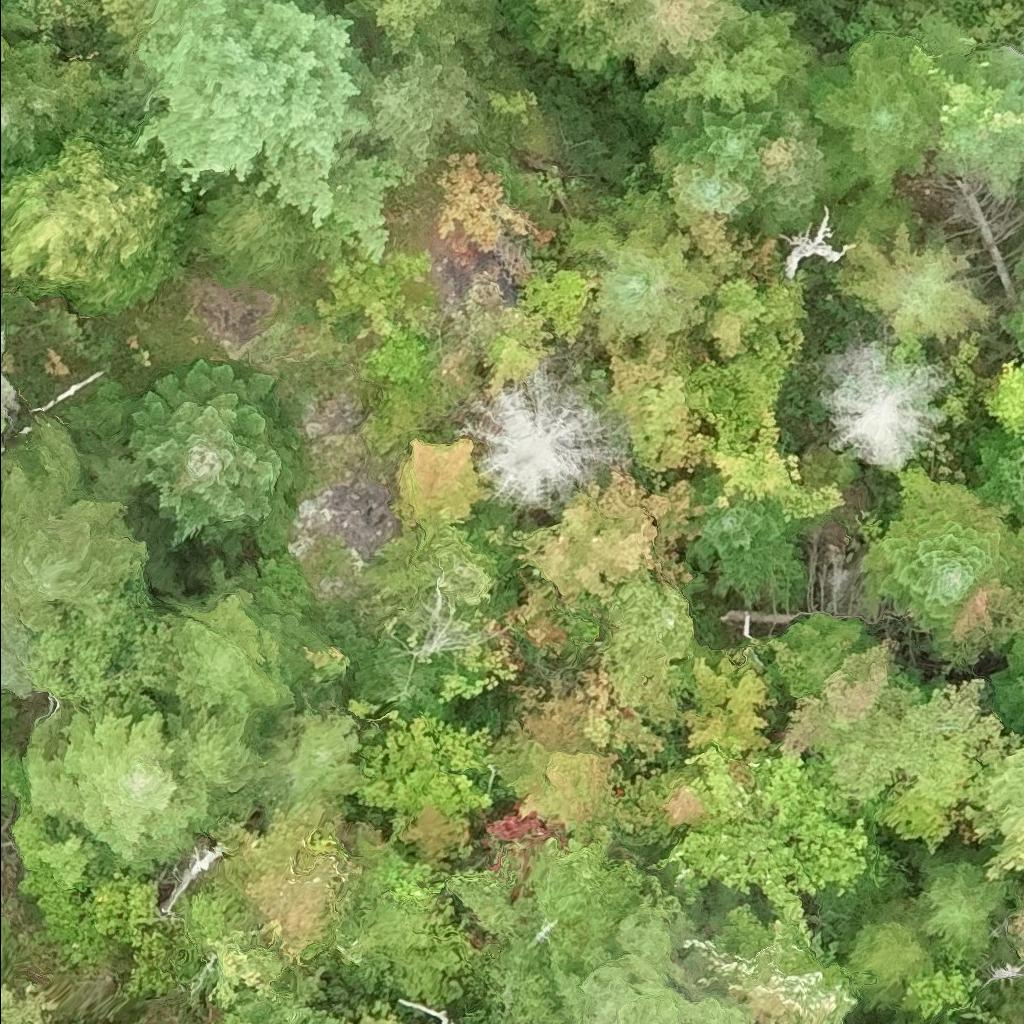crown: (125, 0, 405, 262), (0, 113, 217, 316), (660, 739, 870, 945), (121, 355, 317, 567), (447, 838, 645, 1023), (0, 412, 149, 638), (817, 678, 1010, 852), (488, 448, 695, 606), (165, 556, 344, 728), (22, 705, 197, 877), (857, 489, 1023, 649), (459, 356, 622, 516), (550, 898, 749, 1023), (216, 790, 355, 967), (0, 747, 123, 942), (568, 194, 719, 347), (800, 38, 944, 197), (639, 5, 822, 130), (23, 577, 181, 718), (343, 696, 496, 833), (337, 845, 464, 1008), (829, 221, 997, 341), (817, 331, 953, 473), (506, 654, 668, 762), (159, 697, 281, 840), (351, 29, 480, 163), (701, 404, 846, 523), (685, 467, 808, 604), (602, 337, 719, 475), (728, 915, 873, 1023), (174, 881, 292, 1012), (595, 579, 693, 726), (777, 637, 903, 751), (360, 517, 514, 607), (189, 172, 307, 283), (907, 841, 1015, 961), (435, 149, 557, 253), (606, 0, 752, 85), (746, 94, 837, 230), (839, 891, 940, 1011), (55, 864, 165, 969), (688, 341, 790, 453), (315, 248, 435, 342), (333, 0, 510, 62), (668, 88, 784, 182), (903, 43, 1012, 138), (260, 702, 360, 804), (358, 326, 442, 440), (685, 653, 777, 755), (388, 438, 491, 526), (338, 632, 440, 719), (526, 0, 621, 75), (662, 158, 756, 230), (778, 199, 859, 278), (524, 267, 593, 351), (906, 945, 982, 1019), (951, 573, 1023, 648), (0, 60, 52, 161), (436, 641, 521, 702), (483, 332, 557, 399), (974, 422, 1023, 522), (747, 275, 814, 348), (966, 800, 1023, 881), (0, 600, 43, 696), (210, 993, 344, 1023), (984, 633, 1023, 732), (706, 274, 769, 334), (964, 747, 1023, 811), (983, 357, 1023, 440), (998, 255, 1023, 359), (0, 0, 33, 65), (340, 995, 409, 1023), (301, 645, 349, 684), (1007, 904, 1023, 962), (503, 0, 528, 24), (0, 414, 9, 432), (1017, 525, 1023, 533), (0, 90, 0, 96)
